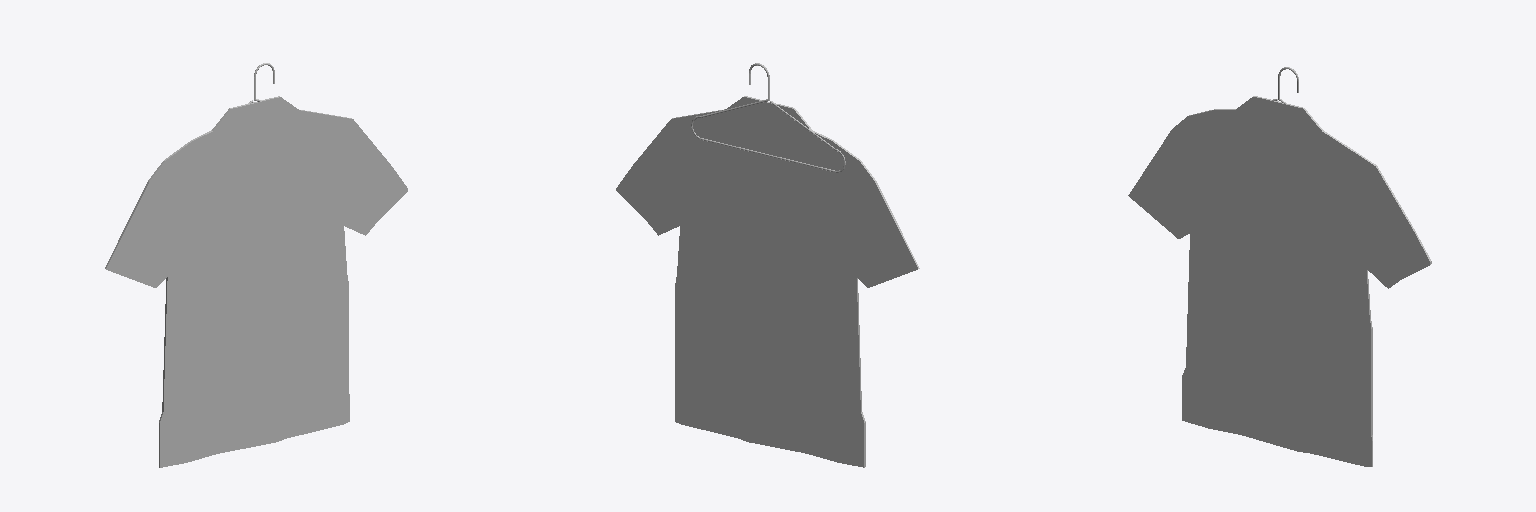
The picture shows the model from 3 angles: view 1: azimuth 30°, elevation 25°; view 2: azimuth 150°, elevation 25°; view 3: azimuth 330°, elevation 25°; orthographic projection.
Visible parts, largest first — view 1: Group_001; view 2: Group_001, Ombreira_001; view 3: Group_001.
Boxes of the visible parts, x1,y1,x2,y2 form: Group_001: [105, 96, 407, 467]; Group_001: [616, 96, 919, 467]; Ombreira_001: [691, 63, 845, 172]; Group_001: [1128, 96, 1431, 466].
Bounding box in the file's own units: 830 × 1001 × 7.67.